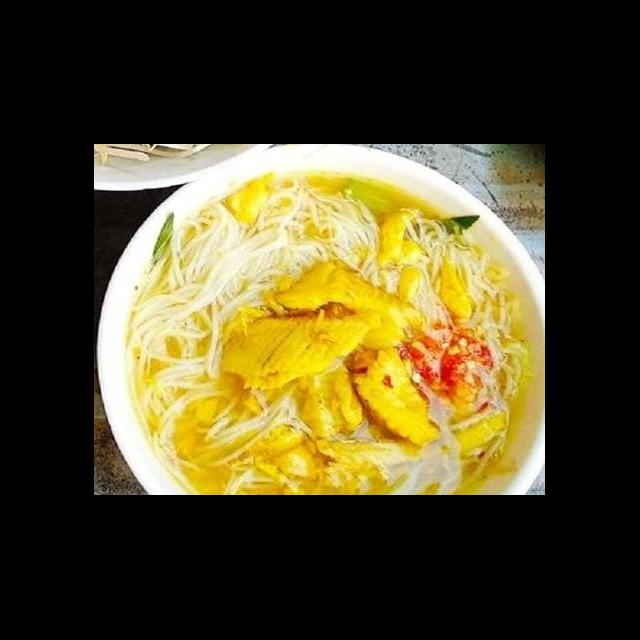bun: (128, 178, 380, 304), (128, 304, 215, 422)
bun ca: (113, 168, 544, 496)
ca: (220, 296, 382, 396), (270, 258, 432, 340), (338, 341, 444, 448)
